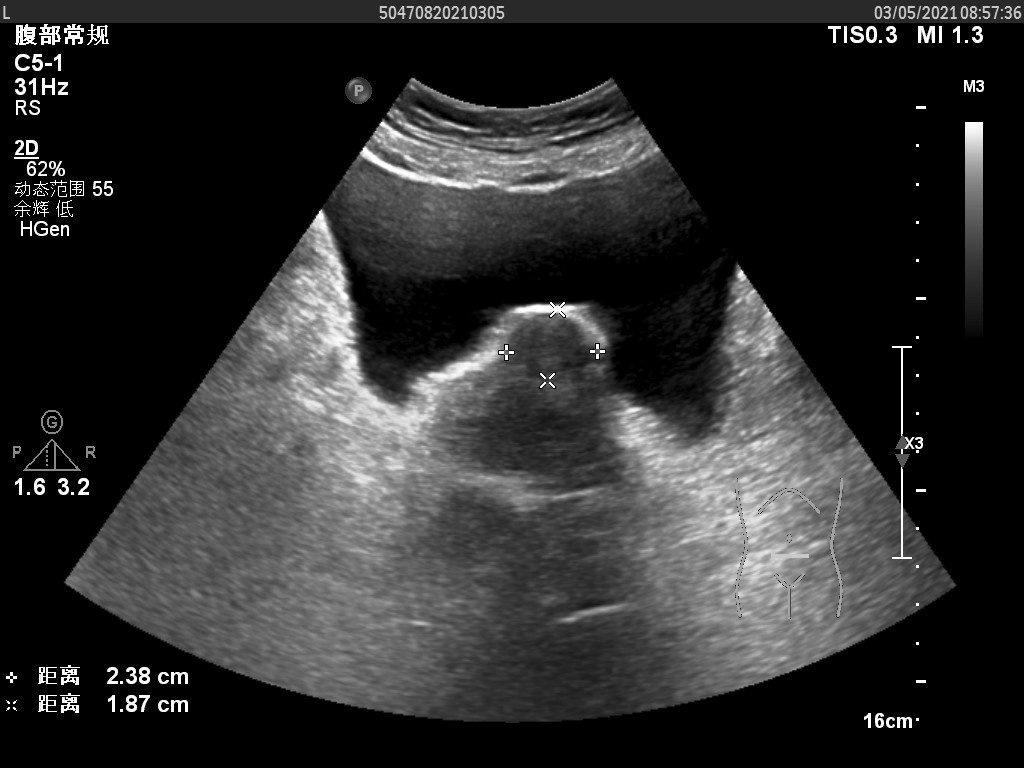肌瘤: (510, 320, 594, 376)
